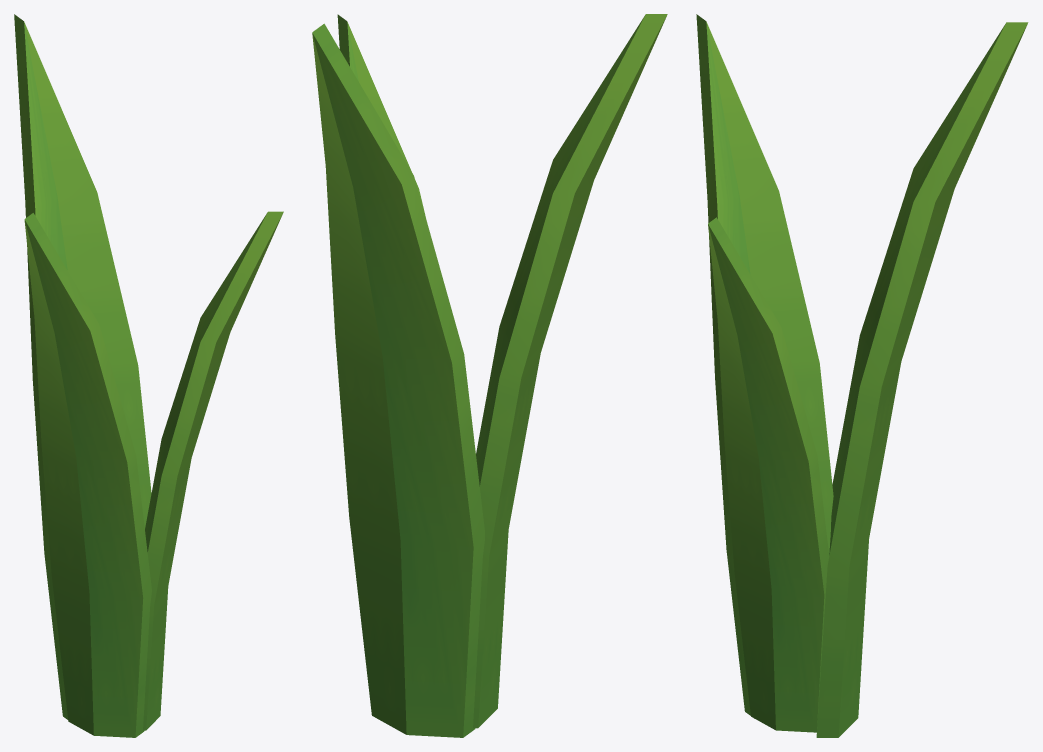
File: Grass_2_B_Color1.gltf
The picture shows the model from 3 angles, left to right: view 1: azimuth 30°, elevation 25°; view 2: azimuth 150°, elevation 25°; view 3: azimuth 270°, elevation 25°; orthographic projection. The views are drawn at different scales.
Visible parts, largest first — view 1: Grass_2_B_Color1; view 2: Grass_2_B_Color1; view 3: Grass_2_B_Color1.
Part boxes in pixels (box(x1,y1,x2,y2)): Grass_2_B_Color1: box(14, 14, 283, 737); Grass_2_B_Color1: box(312, 14, 667, 737); Grass_2_B_Color1: box(696, 14, 1028, 737).
Bounding box in the file's own units: 0.4035 × 0.9188 × 0.3974.
Materials: 1 (1 with a texture image).
